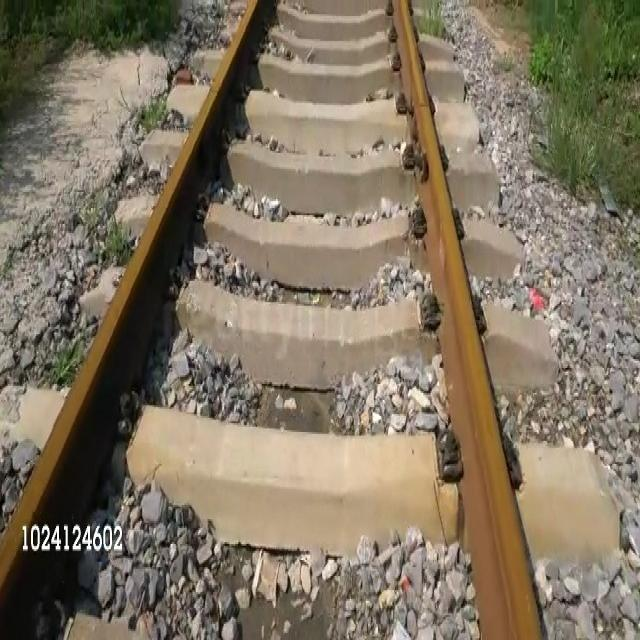Plant: (526, 1, 639, 206), (0, 0, 185, 123), (44, 340, 82, 392), (96, 222, 133, 264), (141, 96, 174, 125), (419, 1, 445, 35)
